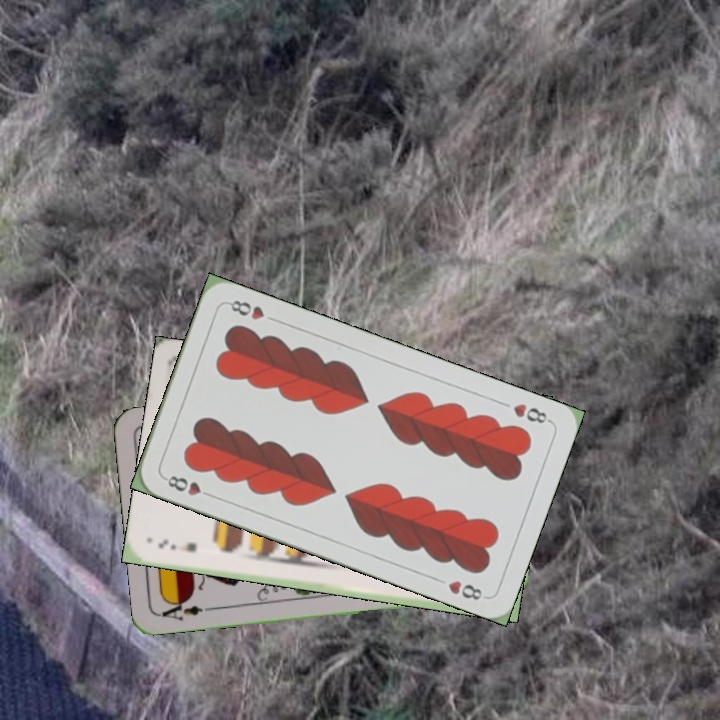E7: (154, 534, 199, 555)
EA: (157, 596, 215, 624)
H8: (160, 471, 217, 500), (509, 399, 554, 427)
